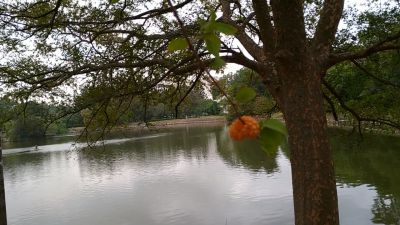eggs: (228, 115, 261, 143)
